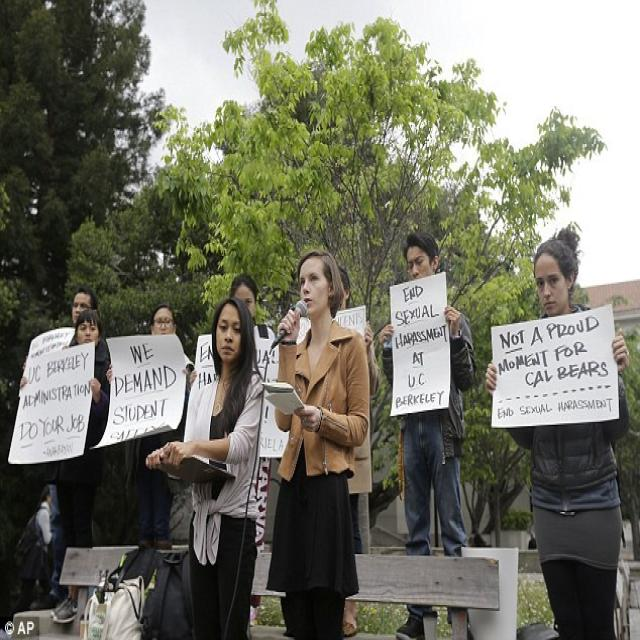body: (481, 222, 635, 638), (262, 244, 376, 638), (143, 288, 270, 639), (376, 224, 480, 639), (14, 300, 114, 628), (186, 269, 276, 628), (21, 284, 99, 610), (104, 301, 199, 551), (332, 263, 381, 639), (16, 483, 54, 612)
